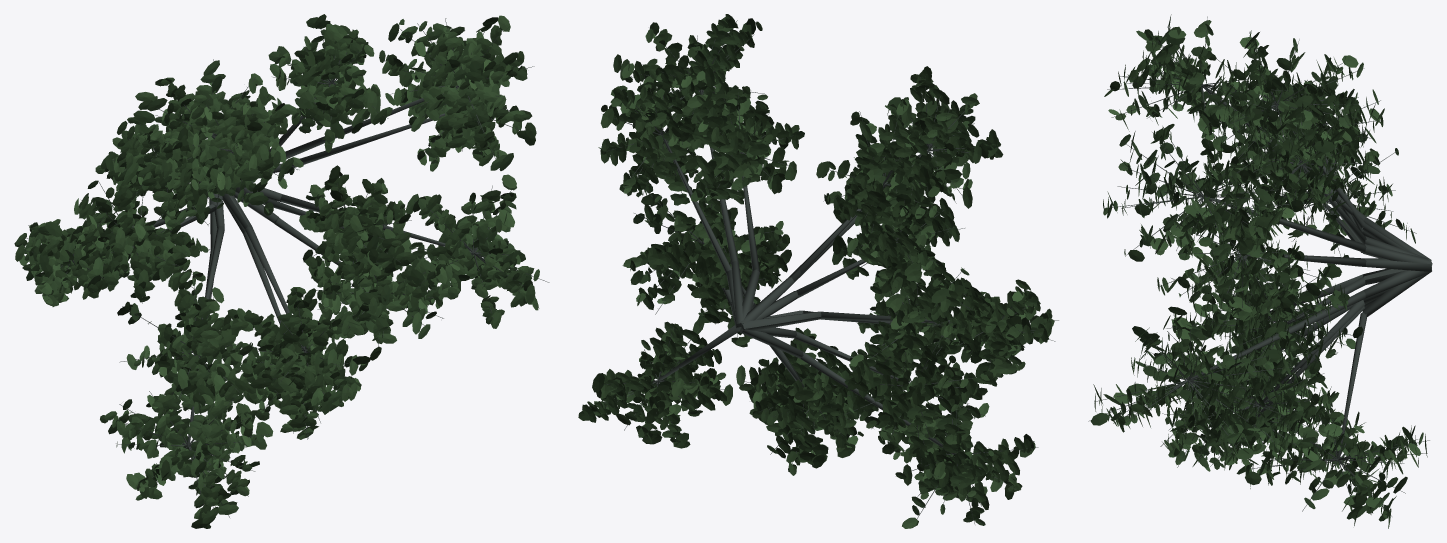
The model's file is tree_m11.obj.
3 views of the same model, side by side, from view 1: azimuth 30°, elevation 25°; view 2: azimuth 150°, elevation 25°; view 3: azimuth 270°, elevation 25° (orthographic). The views are drawn at different scales.
Size of the model in its own units: 1.75 by 1.55 by 1.02.
Materials: 1 (1 with a texture image).
